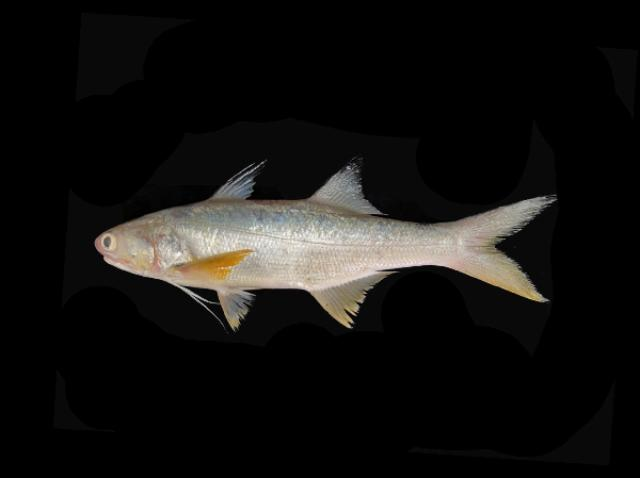Mulut: (68, 218, 140, 280)
Sirip Anal: (299, 261, 405, 339)
Sirip Dada: (160, 244, 258, 290)
Sirip Ekor: (438, 185, 578, 317)
Sirip Perut: (208, 280, 264, 338)
Sirip Punggung: (194, 148, 400, 232)
